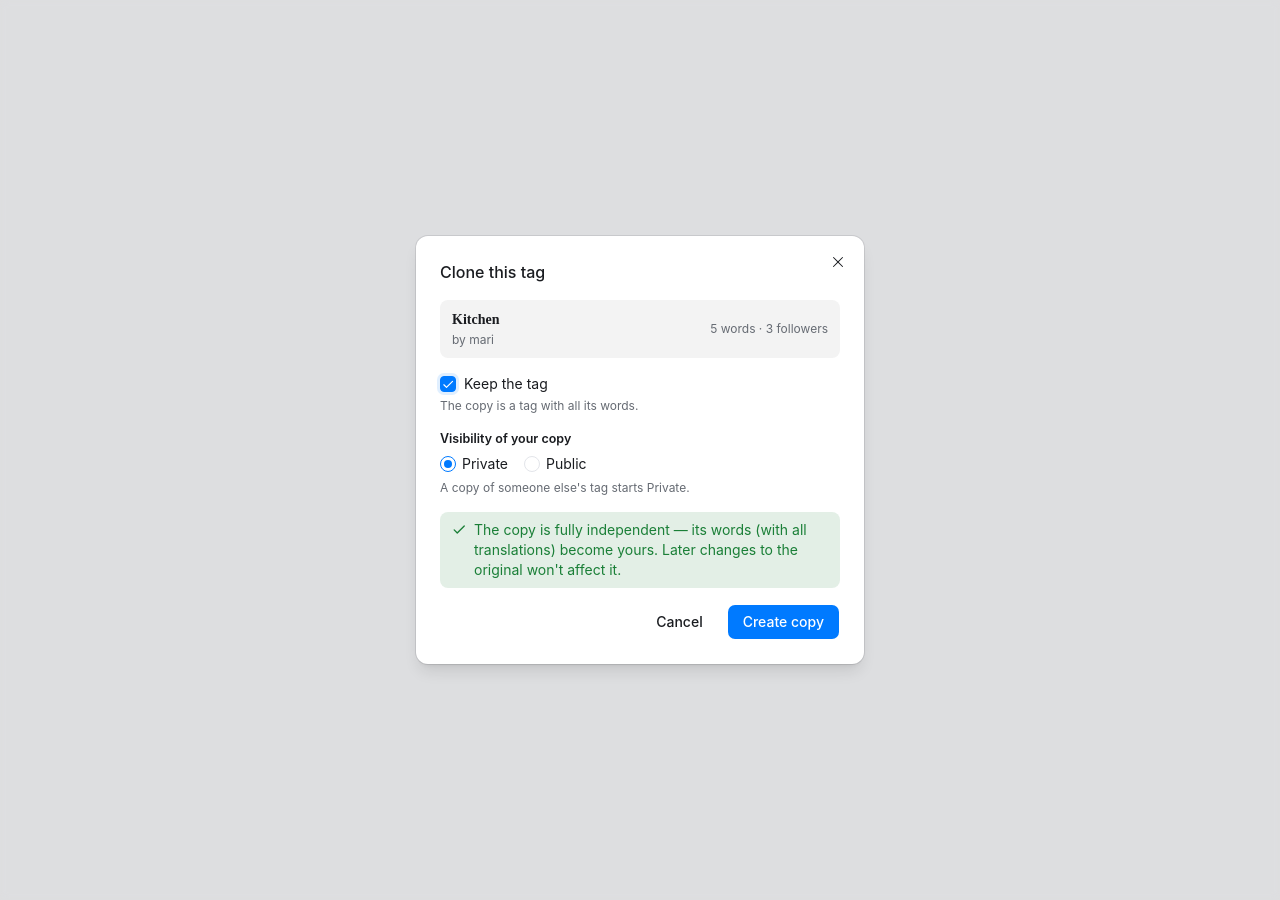
Test case: CloneTagDialog › keep the tag › brings the visibility choice back when checked again
The image size is (1280, 900).
Step 1. Click the checkbox named "Keep the tag" → [448, 384], box [440, 376, 456, 392]
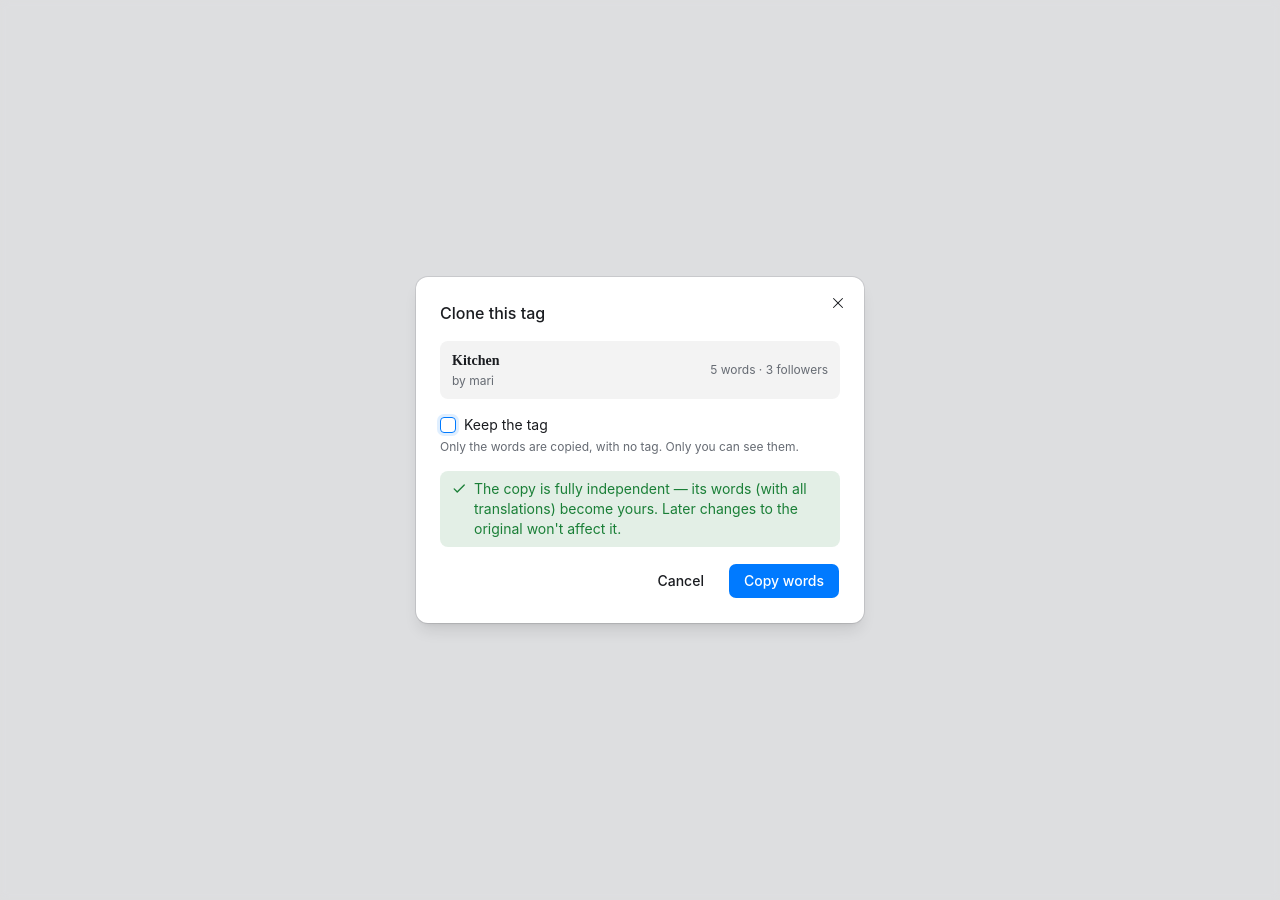
Step 2. Click the checkbox named "Keep the tag" → [448, 425], box [440, 417, 456, 433]
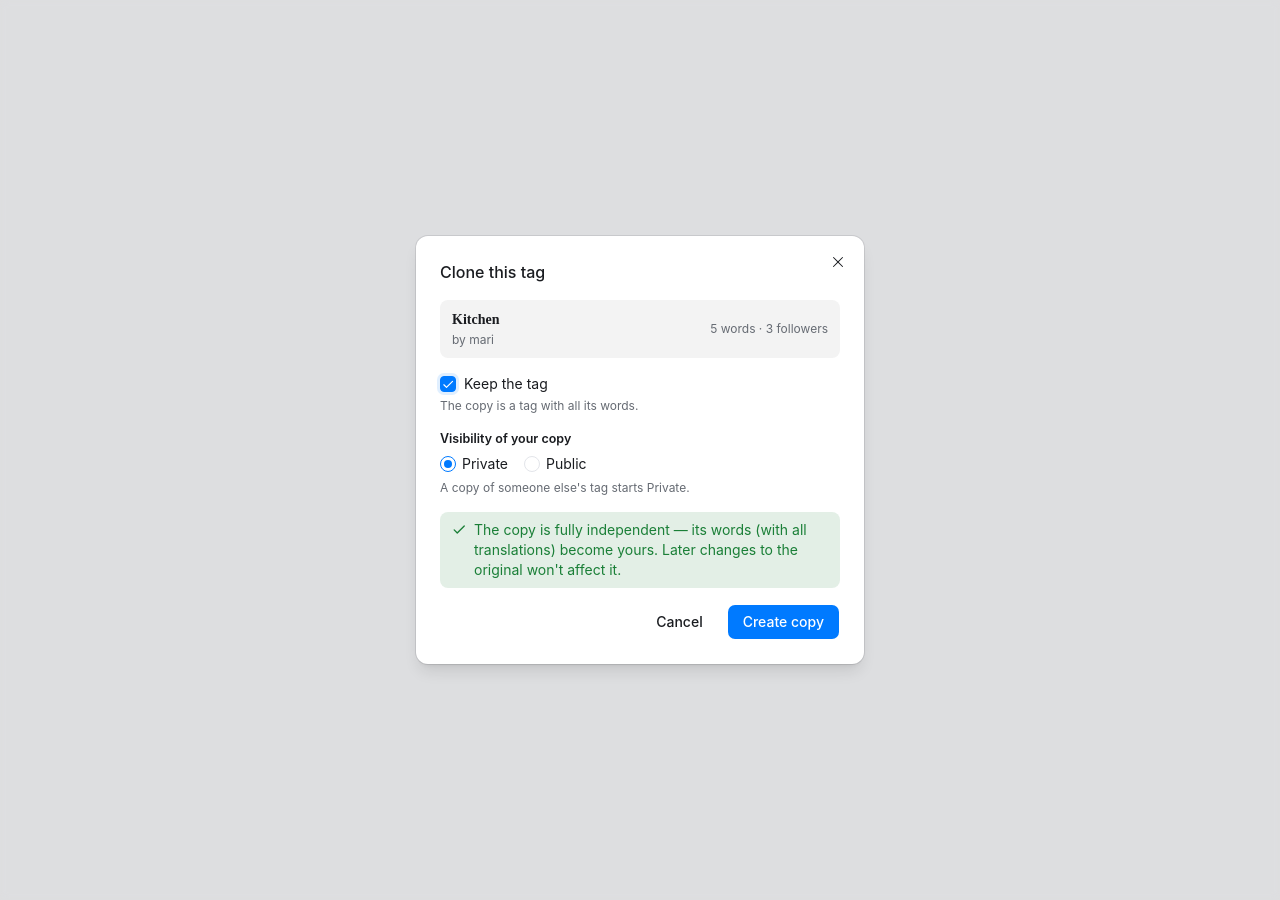
Expected: the text "Visibility of your copy" is shown, [440, 431, 571, 446]
